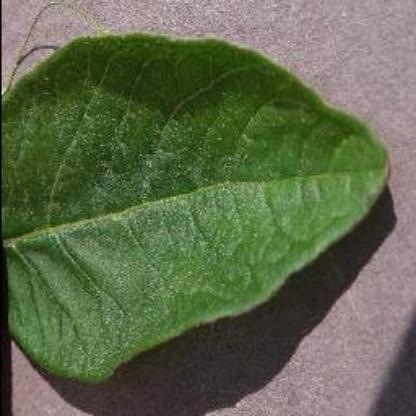Healthy-plant: (2, 37, 374, 380)
